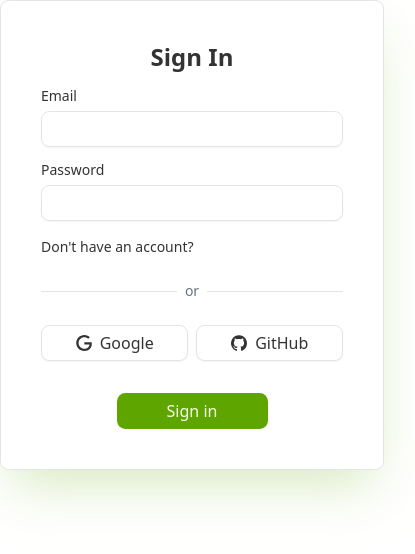
Test case: SignInForm component test › Form validation › Should show error if email is invalid
The image size is (415, 554).
Step 1. Type "invalid_format" into the field with test id "signIn-email-field" → (192, 129), box left=41, top=111, right=343, bottom=147
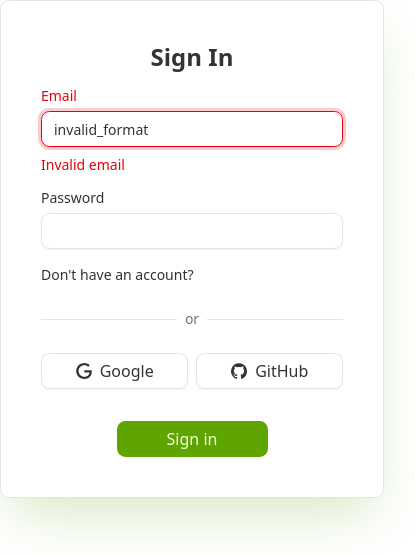
Result: the text "Invalid email" is shown at left=41, top=155, right=125, bottom=174
